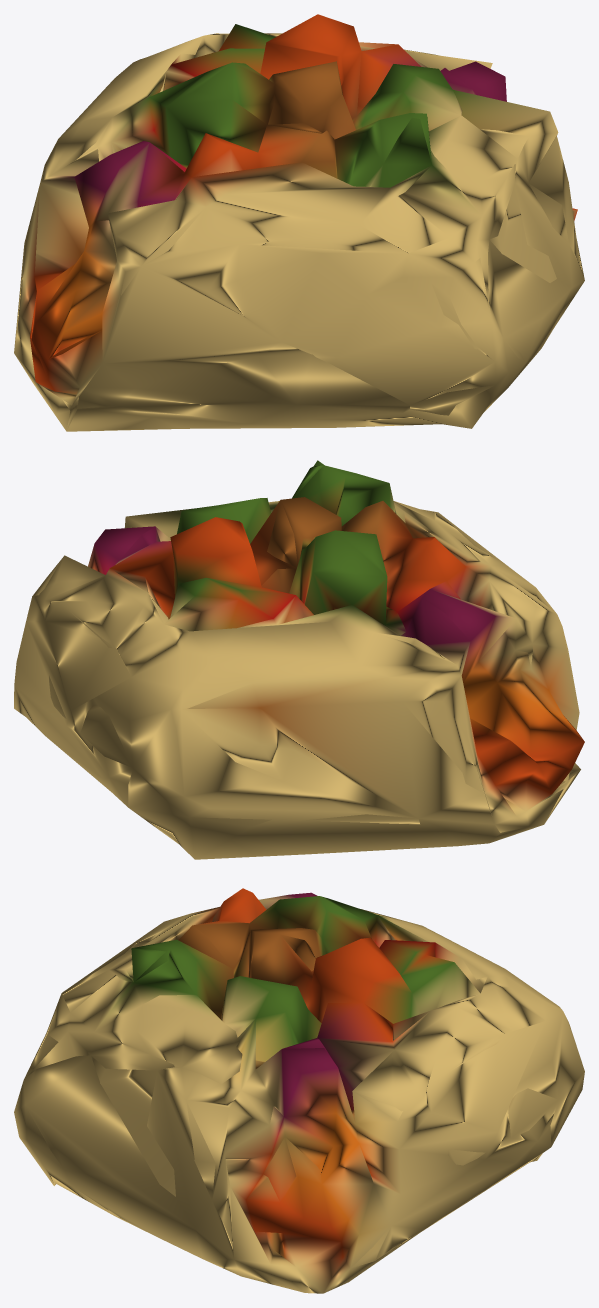
File: gen3d-burrito-lod0.glb
The picture shows the model from 3 angles, top to bottom: view 1: azimuth 30°, elevation 25°; view 2: azimuth 150°, elevation 25°; view 3: azimuth 270°, elevation 25°; orthographic projection. The views are drawn at different scales.
Visible parts, largest first — view 1: part_0; view 2: part_0; view 3: part_0.
Part boxes in pixels (bbox=[...]): part_0: bbox=[14, 14, 584, 431]; part_0: bbox=[14, 460, 584, 859]; part_0: bbox=[14, 888, 584, 1293].
Bounding box in the file's own units: 1.92 × 0.996 × 1.88.
